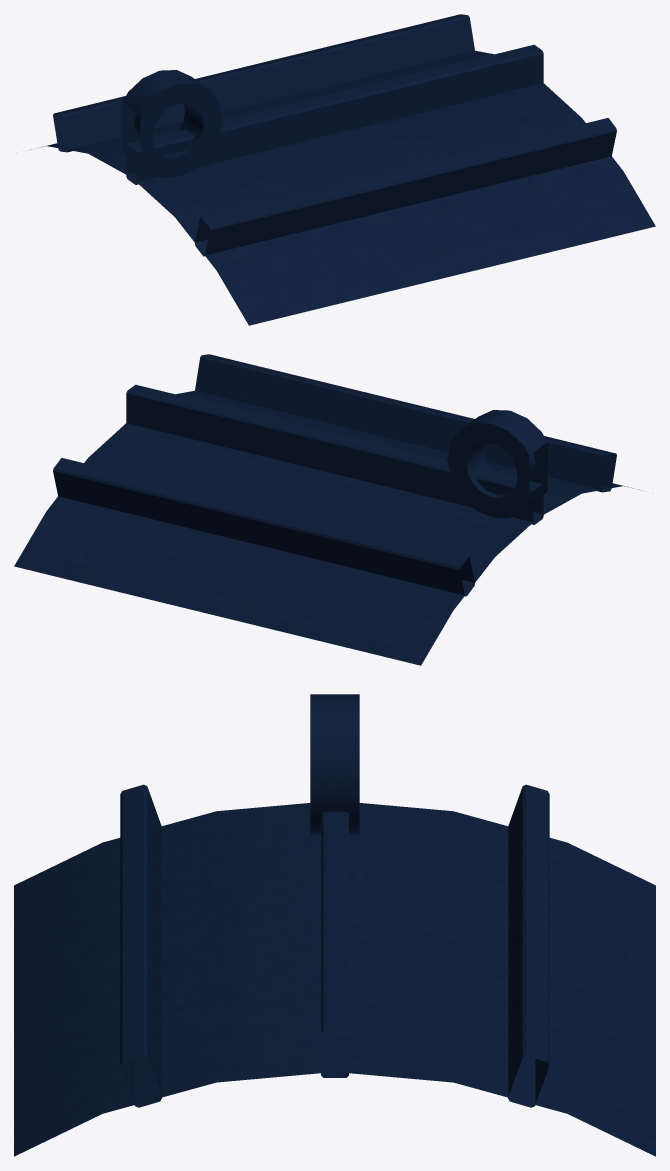
File: cell_61.obj
The picture shows the model from 3 angles, top to bottom: view 1: azimuth 30°, elevation 25°; view 2: azimuth 150°, elevation 25°; view 3: azimuth 270°, elevation 25°; orthographic projection. The views are drawn at different scales.
Visible parts, largest first — view 1: cell_61; view 2: cell_61; view 3: cell_61.
Part boxes in pixels (<box>): cell_61: <box>30,14,655,325</box>; cell_61: <box>14,354,639,665</box>; cell_61: <box>14,694,655,1156</box>.
Bounding box in the file's own units: 1 × 0.3603 × 1.
